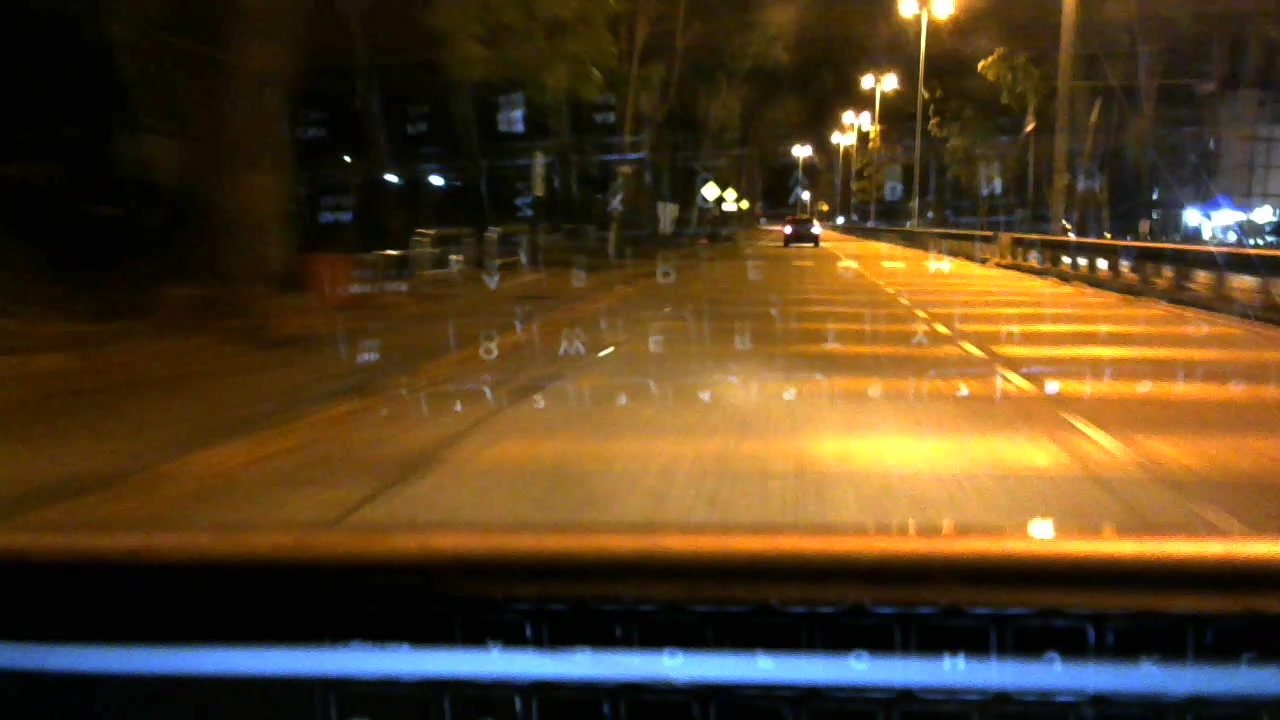Car: (773, 210, 836, 253)
